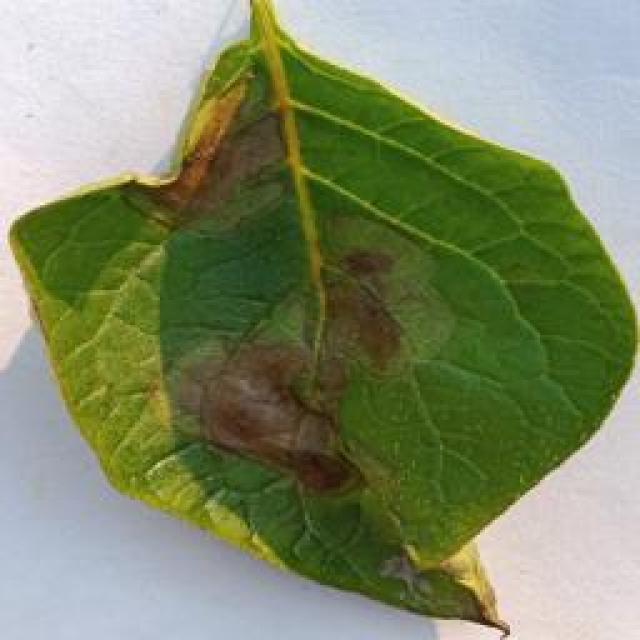Potato_Late_Blight: (8, 2, 625, 632)
